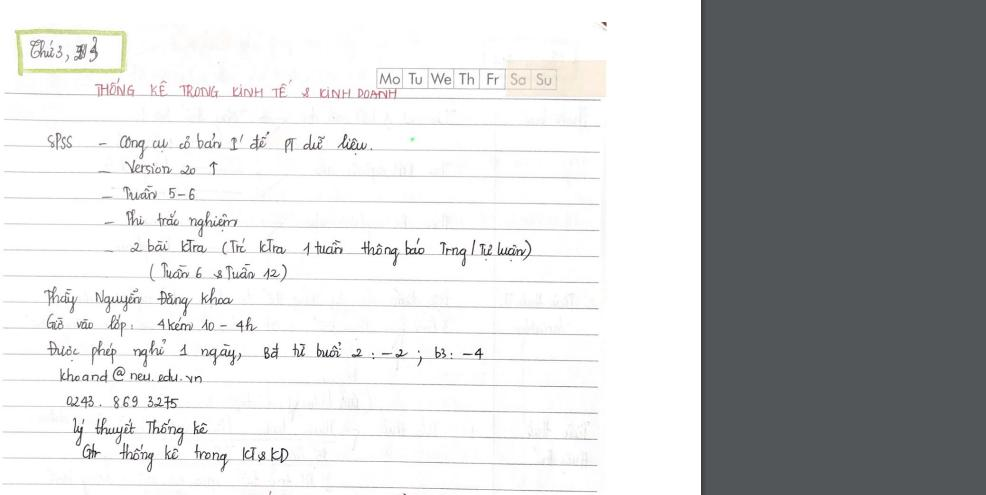text: (102, 236, 534, 268), (46, 338, 486, 369), (45, 129, 375, 161), (95, 77, 399, 99), (81, 442, 290, 474), (43, 286, 234, 318), (46, 312, 259, 338), (71, 416, 211, 448), (104, 208, 241, 238), (378, 68, 556, 91), (148, 262, 288, 284), (58, 366, 204, 385), (26, 35, 102, 65), (64, 393, 179, 412), (96, 159, 221, 176), (101, 184, 197, 201)
